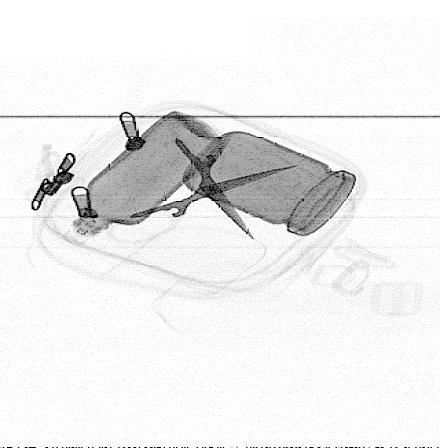Scissors: (102, 106, 300, 245)
